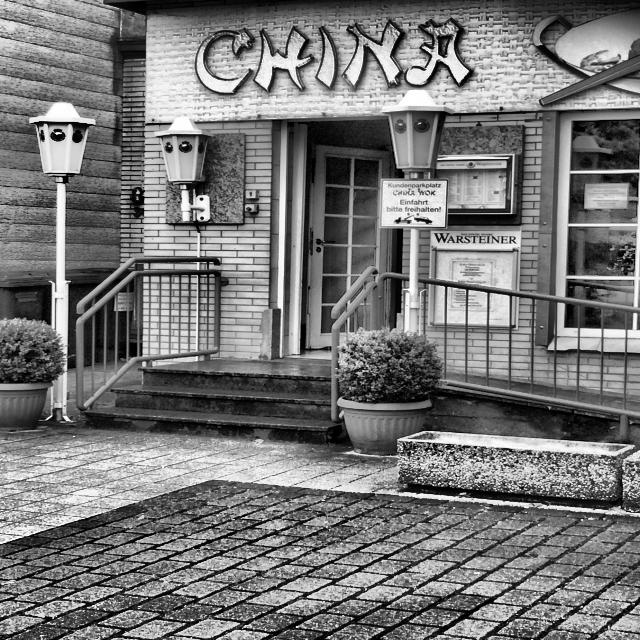escada: (83, 363, 345, 443)
